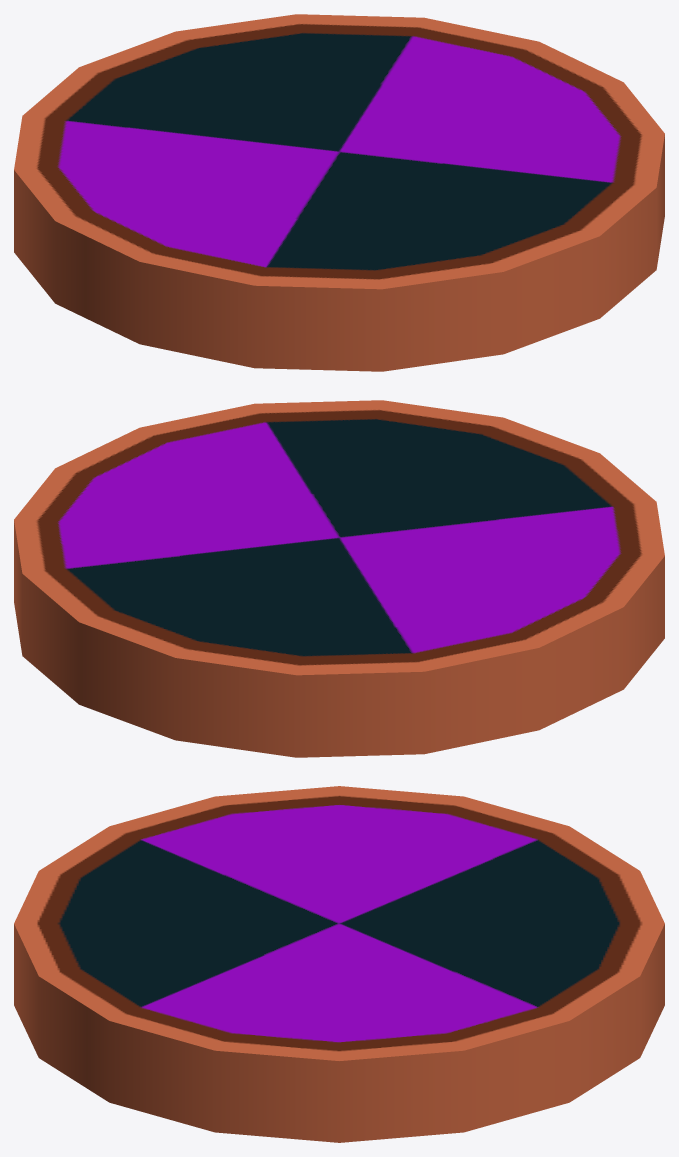
Rendered from puzzle1_btn2_bottom.fbx.
3 renders of one model, top to bottom at view 1: azimuth 30°, elevation 25°; view 2: azimuth 150°, elevation 25°; view 3: azimuth 270°, elevation 25°, orthographic.
Visible parts, largest first — view 1: levelBottom; view 2: levelBottom; view 3: levelBottom.
Part boxes in pixels (x1,y1,x2,y2): levelBottom: (14,14,664,371); levelBottom: (14,400,664,757); levelBottom: (14,786,664,1142).
Bounding box in the file's own units: 2.93 × 0.4059 × 2.93.
